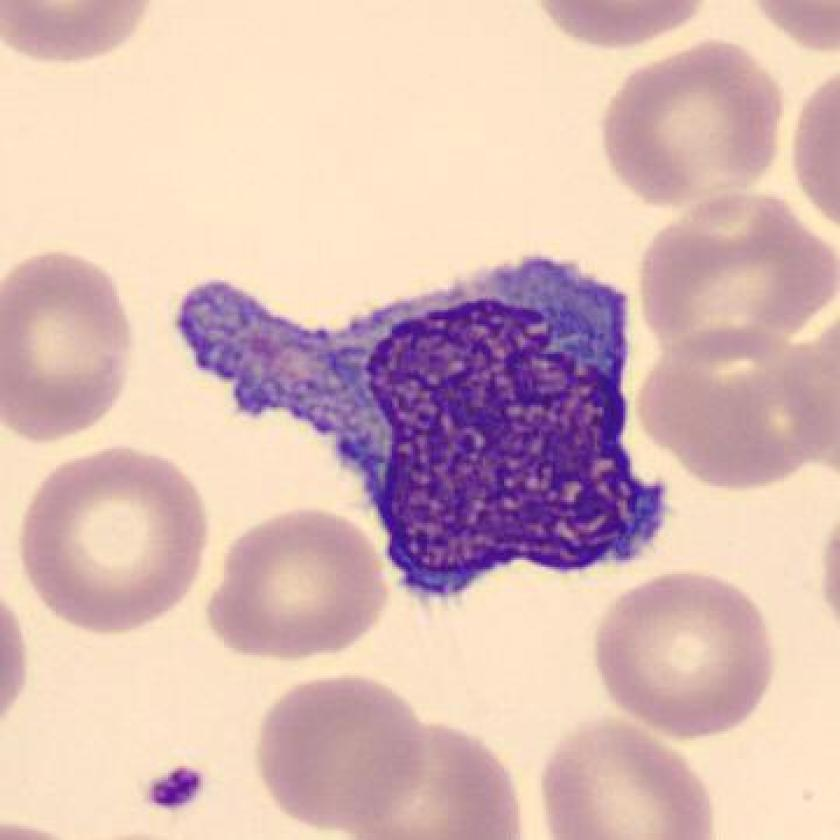monocyte: (158, 223, 683, 614)
